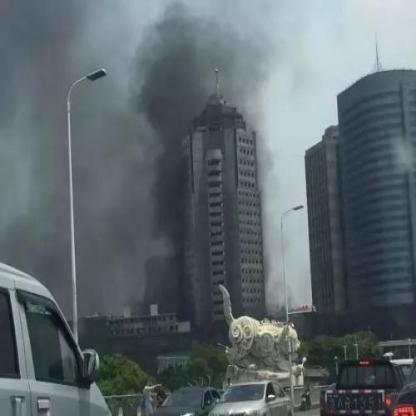smoke: (136, 12, 258, 101), (149, 101, 185, 265)
